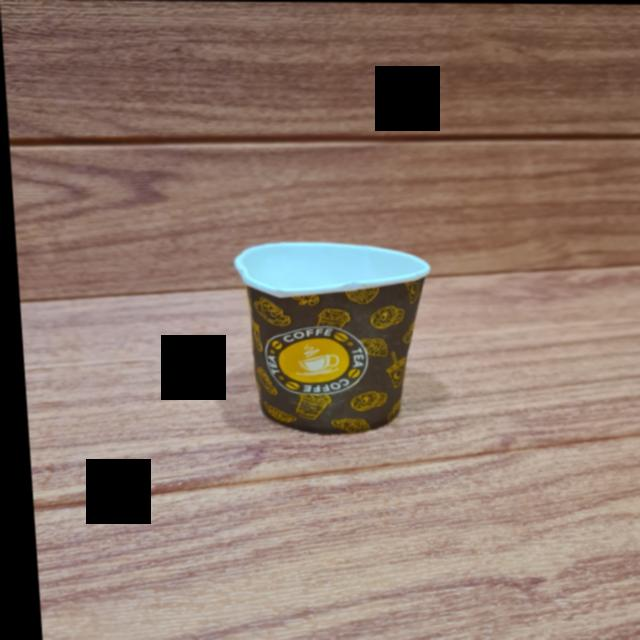cups: (226, 243, 443, 432)
